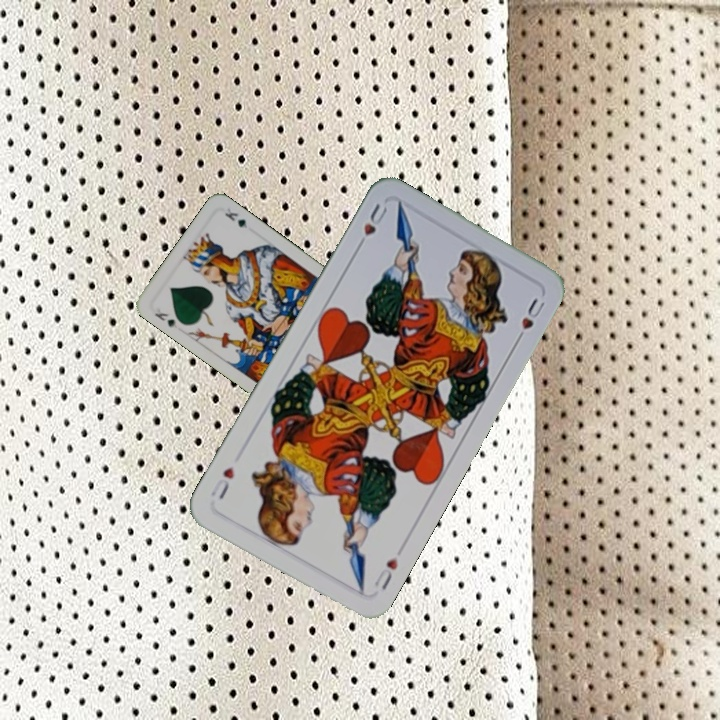GK: (151, 308, 180, 331)
HU: (351, 199, 390, 253), (370, 553, 401, 593)
